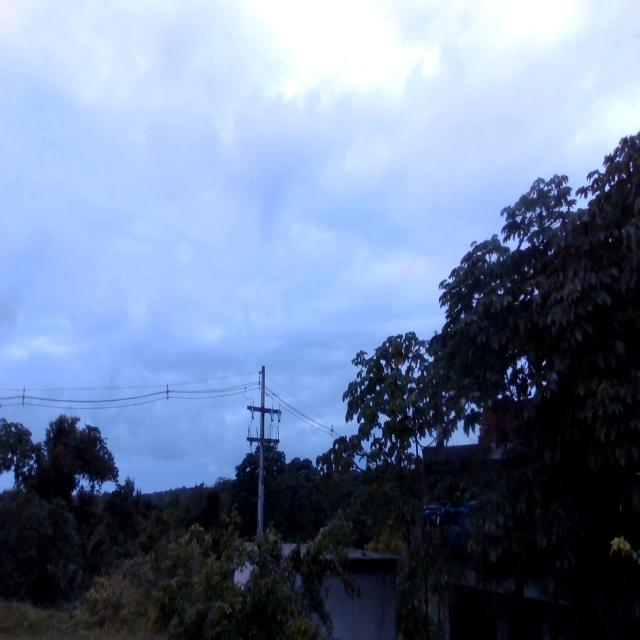-uav-: (418, 494, 484, 556)
